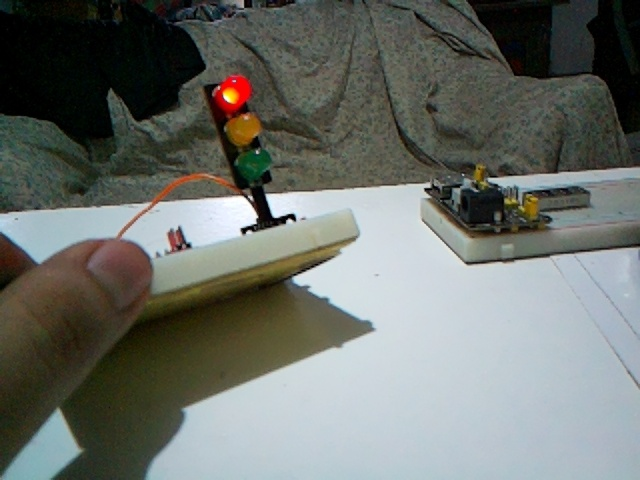traffic_light_red: (206, 75, 272, 189)
